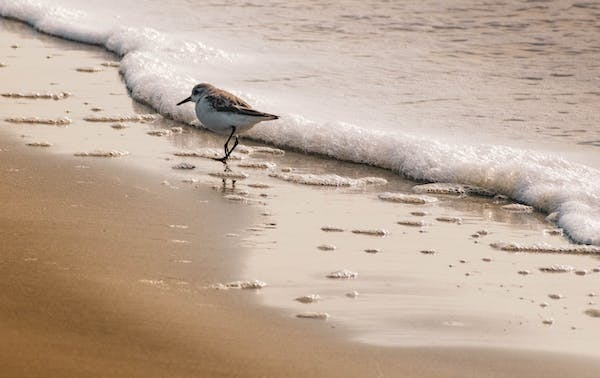Walking: (166, 57, 284, 180)
